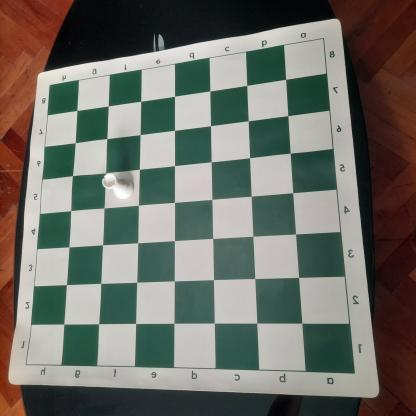white-rook: (102, 172, 136, 201)
